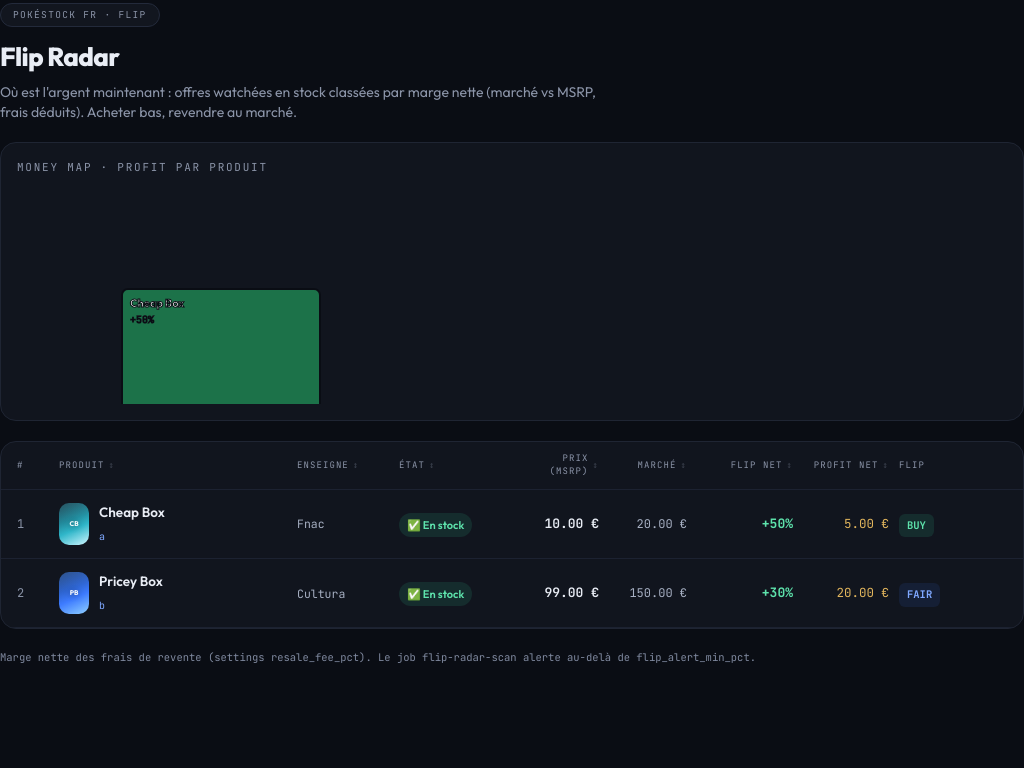
Flip Radar — tri + tiroir de détail › ouvre le tiroir de détail au clic sur une ligne
What coordinates should you click on to do the following:
click the button with aria-label "Cheap Box — voir le détail"
I would click on:
 (132, 512)
Its box is x1=1 y1=490 x2=1023 y2=559.
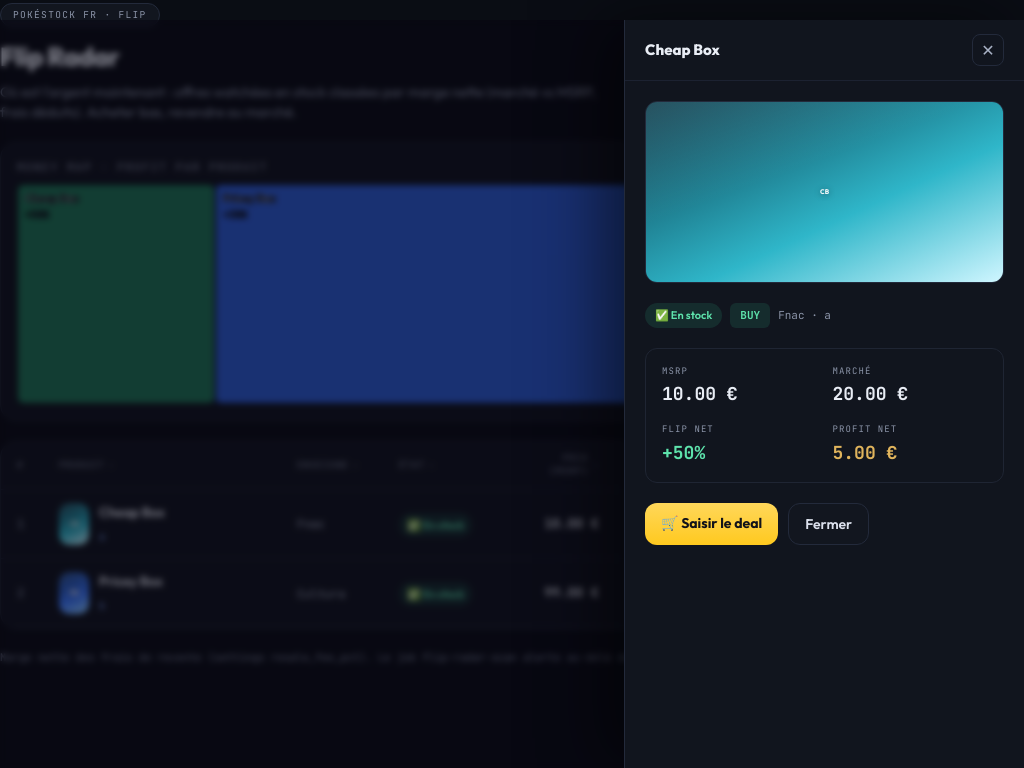
Check: the dialog is shown, box x1=624 y1=20 x2=1023 y2=767
Check: the dialog shows "Cheap Box", box x1=645 y1=40 x2=720 y2=59
Check: the dialog shows "10.00 €", box x1=662 y1=382 x2=738 y2=405
